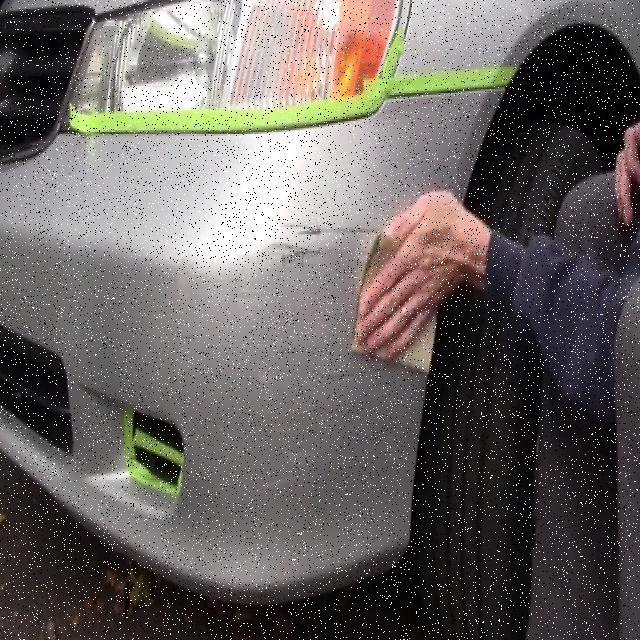front-bumper-dent: (7, 124, 480, 592)
